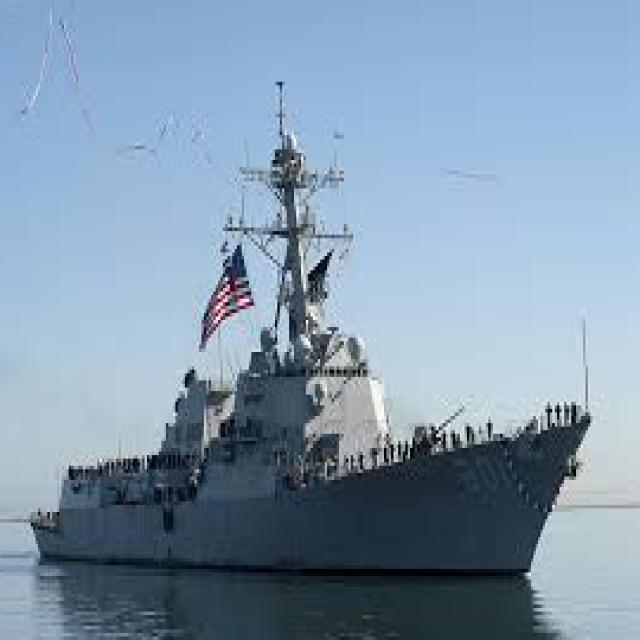navalvessels: (25, 70, 602, 572)
